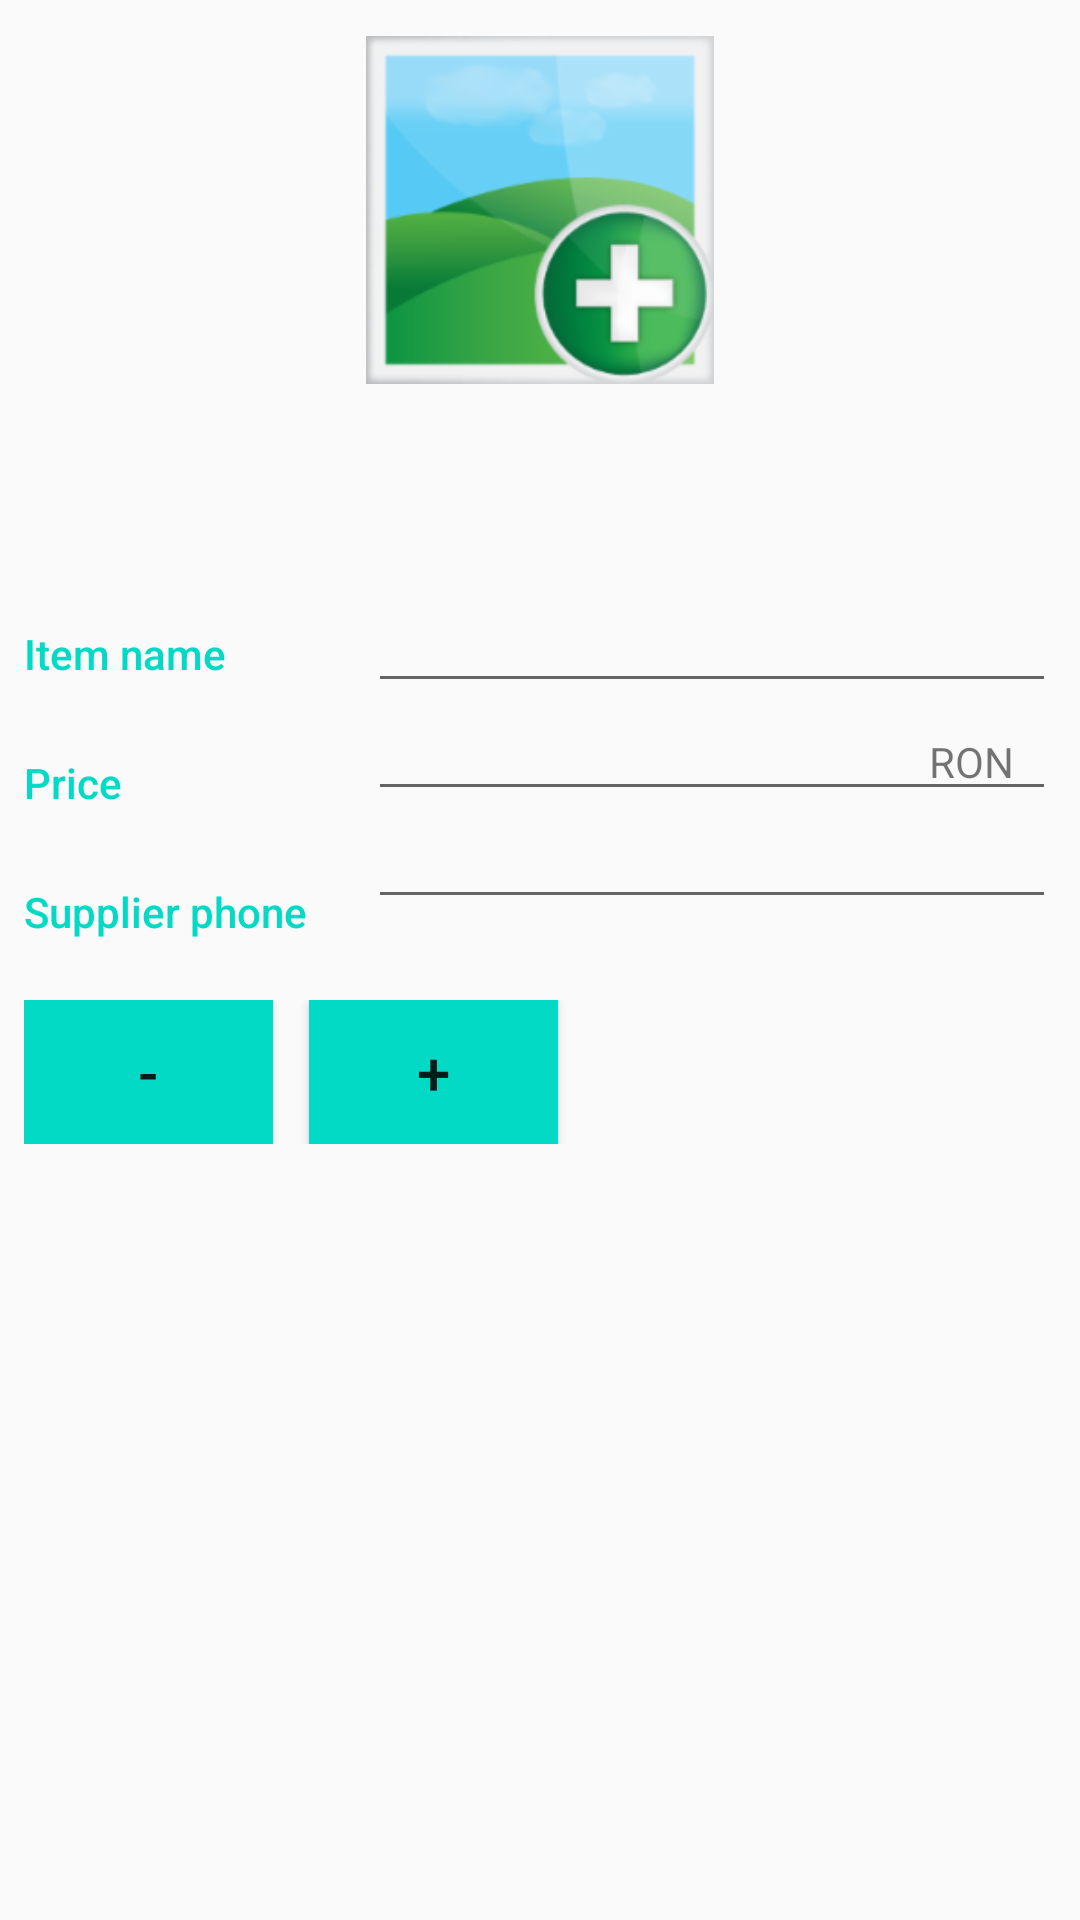

Icon click points for this 1080x1920 phone screenshot, format (x,y):
add: (540,210)
